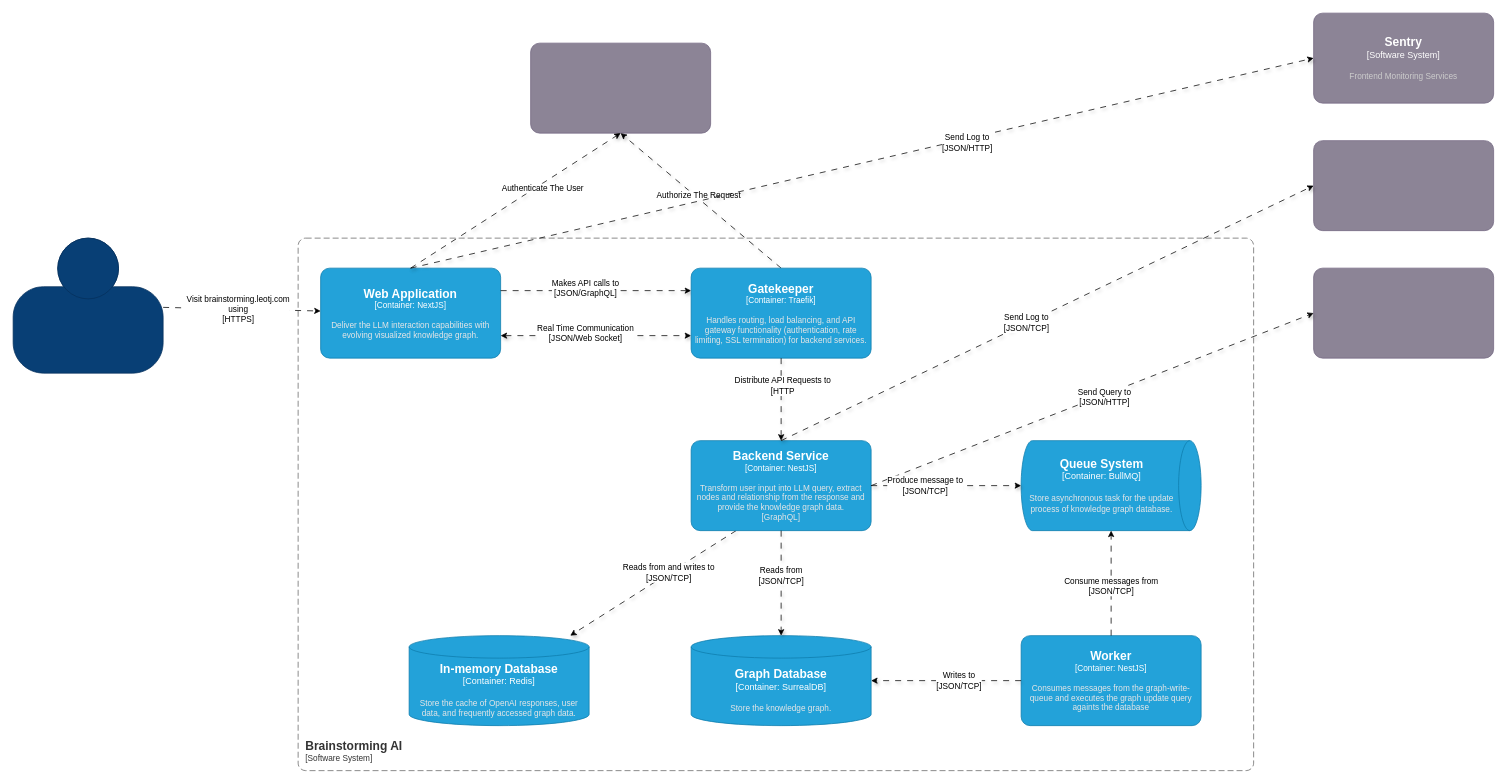
Some shapes in this 1507 by 784 pixel diagram are drawn without their labels. The shapes that lost their labels are listed below. From the top down, each one's centre as x and y in pixels, then its label:
point (620, 87): SuperTokens [Software System] Authentication & Authorization Systems
point (1403, 185): Grafana [Software System] Backend Monitoring Services
point (87, 305): Person name [Person] Brainstorming AI User
point (1403, 312): OpenAI [Software System] Multiple AI Model Services
